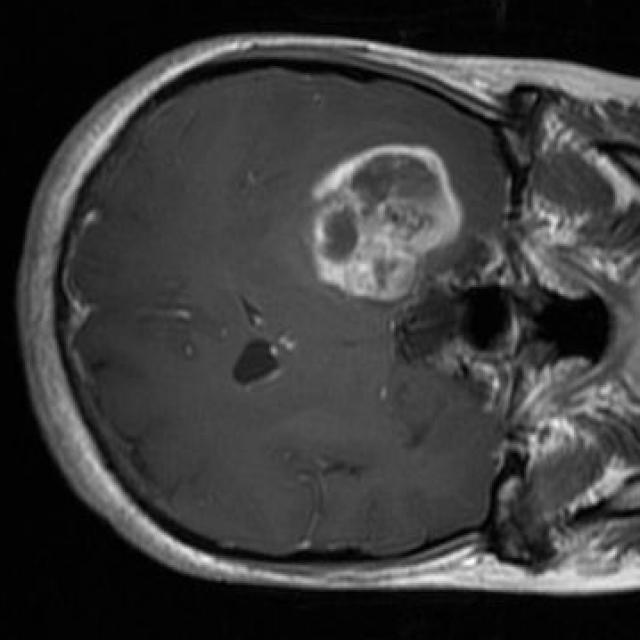glioma: (312, 144, 464, 303)
